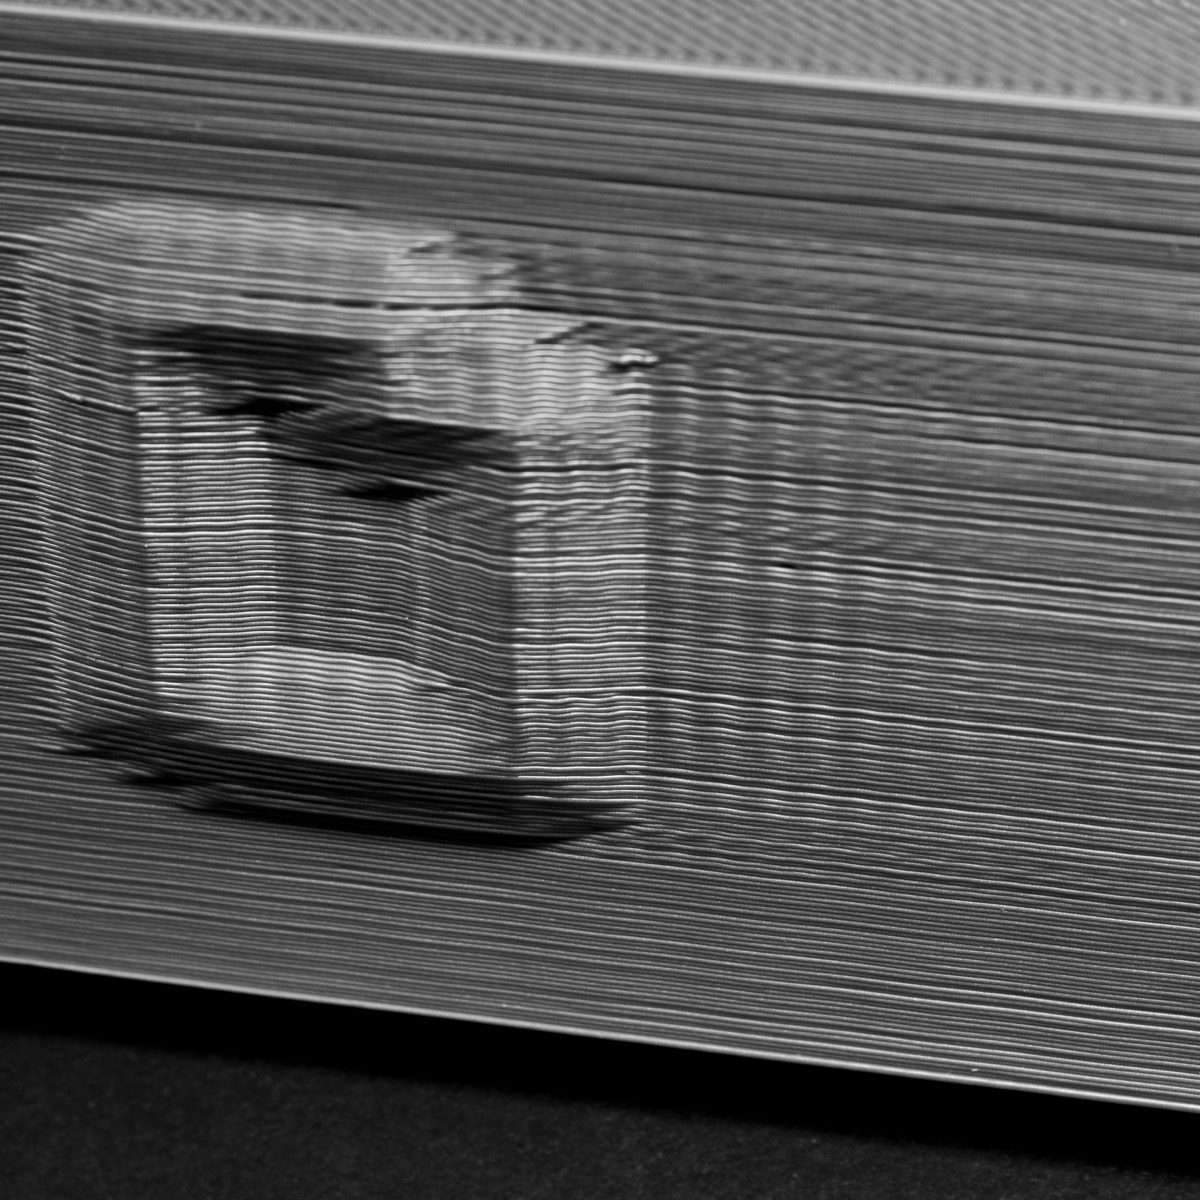3dpoverextrusion: (416, 851, 1177, 1064), (42, 70, 608, 208), (16, 818, 393, 1011), (622, 116, 975, 274)
3dpripples: (667, 400, 1026, 831), (527, 454, 651, 788), (44, 315, 135, 699), (156, 442, 273, 624)
